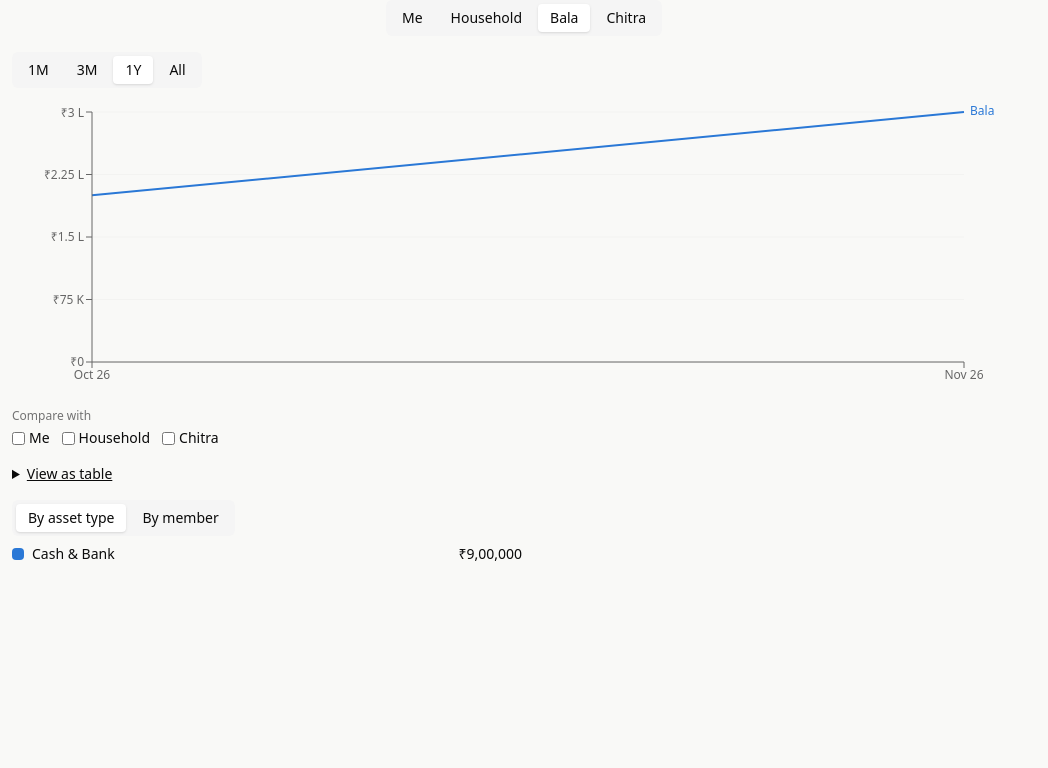
it: Timeline › follows the lens and breaks the latest point down by member
Click the heading "View as table" at x=70, y=474, box [27,464,112,483]
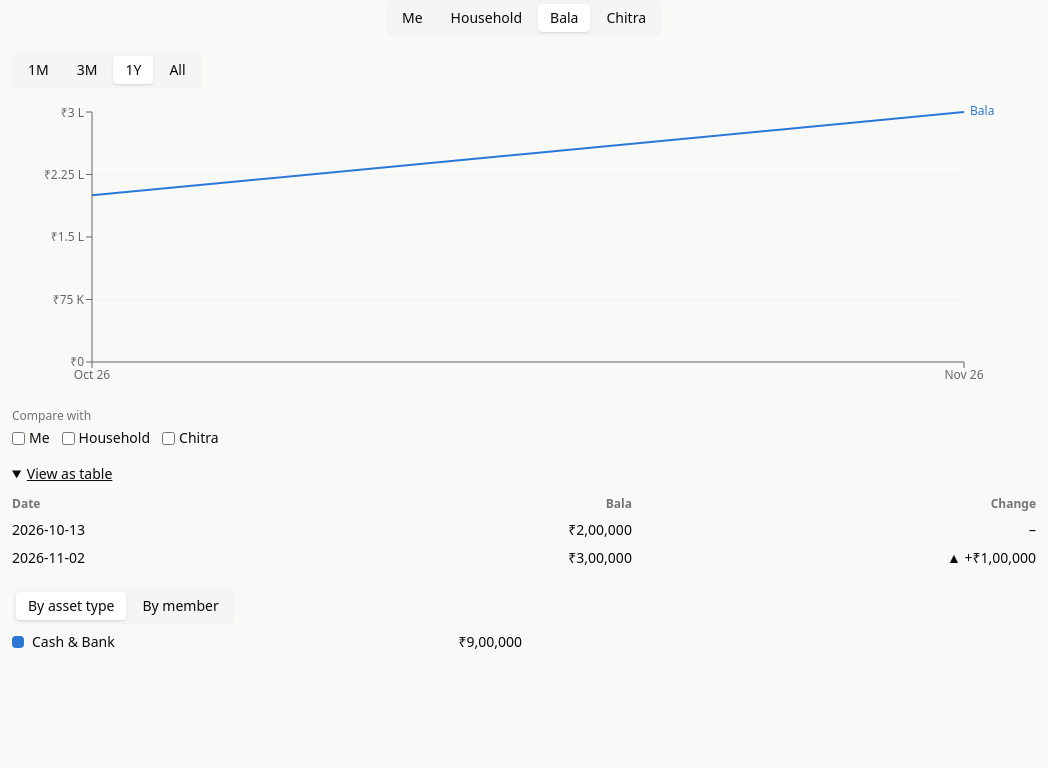
Expected: the column heading "Bala" is shown, [344,492,632,516]
Click the button "By member" at x=181, y=606, box [130,592,231,620]
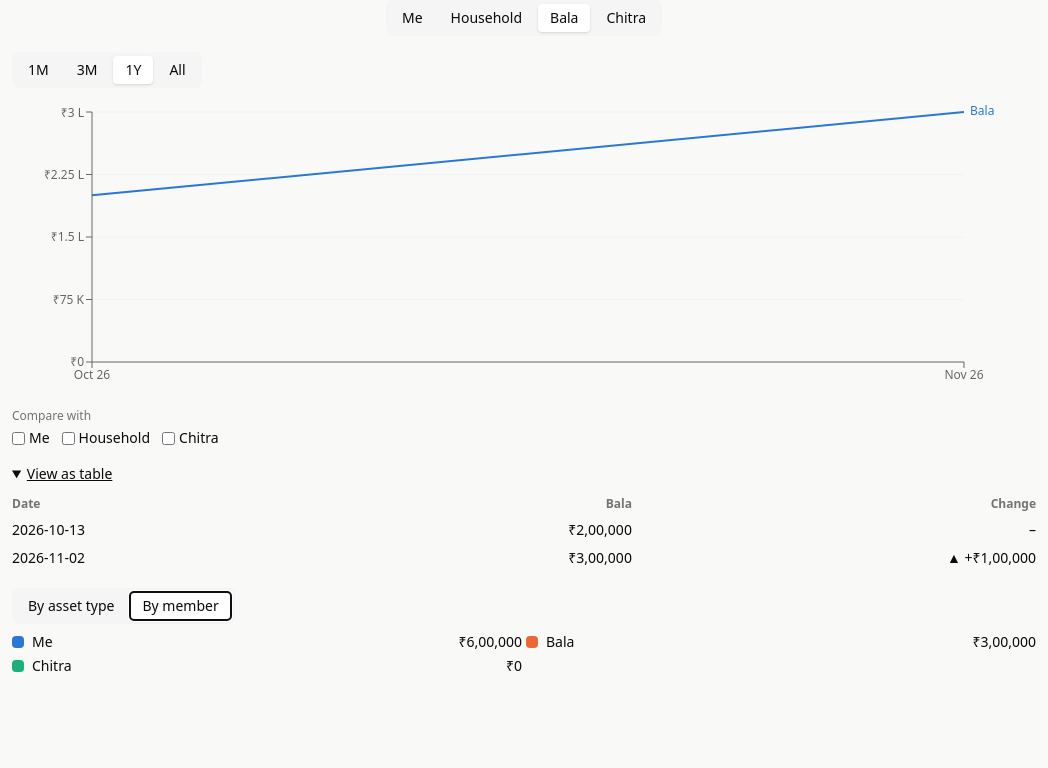
Expected: the text "₹6,00,000" is shown, [458,632,522,652]
